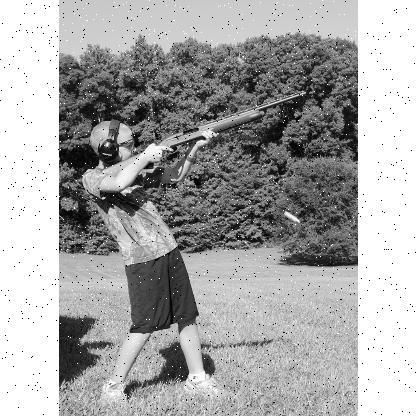gun: (100, 92, 302, 176)
